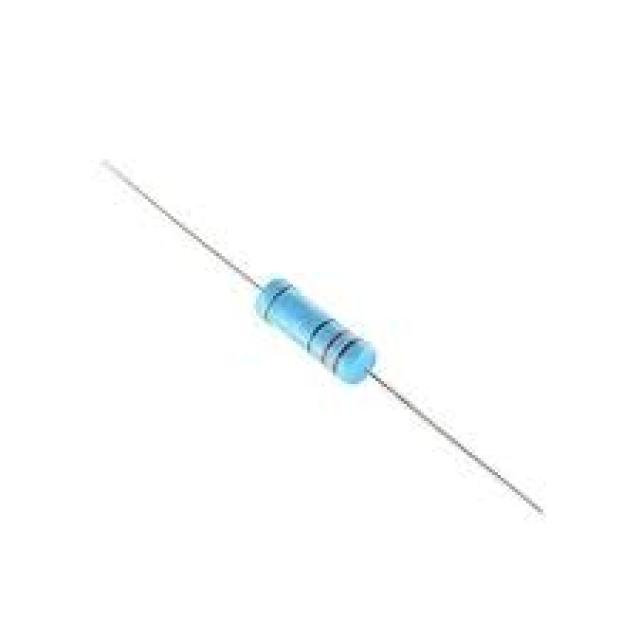Resistor: (252, 275, 380, 386)
